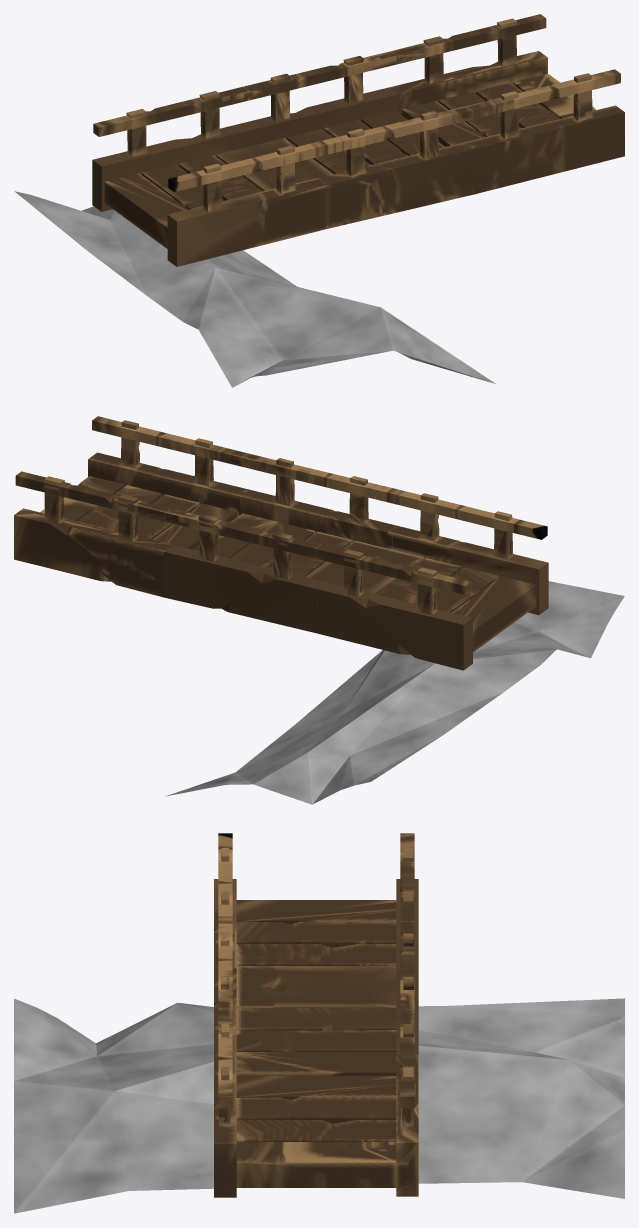
File: FloorBridge2.gltf
3 renders of one model, top to bottom at view 1: azimuth 30°, elevation 25°; view 2: azimuth 150°, elevation 25°; view 3: azimuth 270°, elevation 25°, orthographic. The views are drawn at different scales.
Parts seen in each view (by area): view 1: FloorBridge2; view 2: FloorBridge2; view 3: FloorBridge2.
Part boxes in pixels (x1,y1,x2,y2): FloorBridge2: (14,14,624,387); FloorBridge2: (14,416,624,804); FloorBridge2: (14,833,624,1213).
Size of the model in its own units: 5.14 by 2.21 by 5.
Materials: 2 (2 with a texture image).
